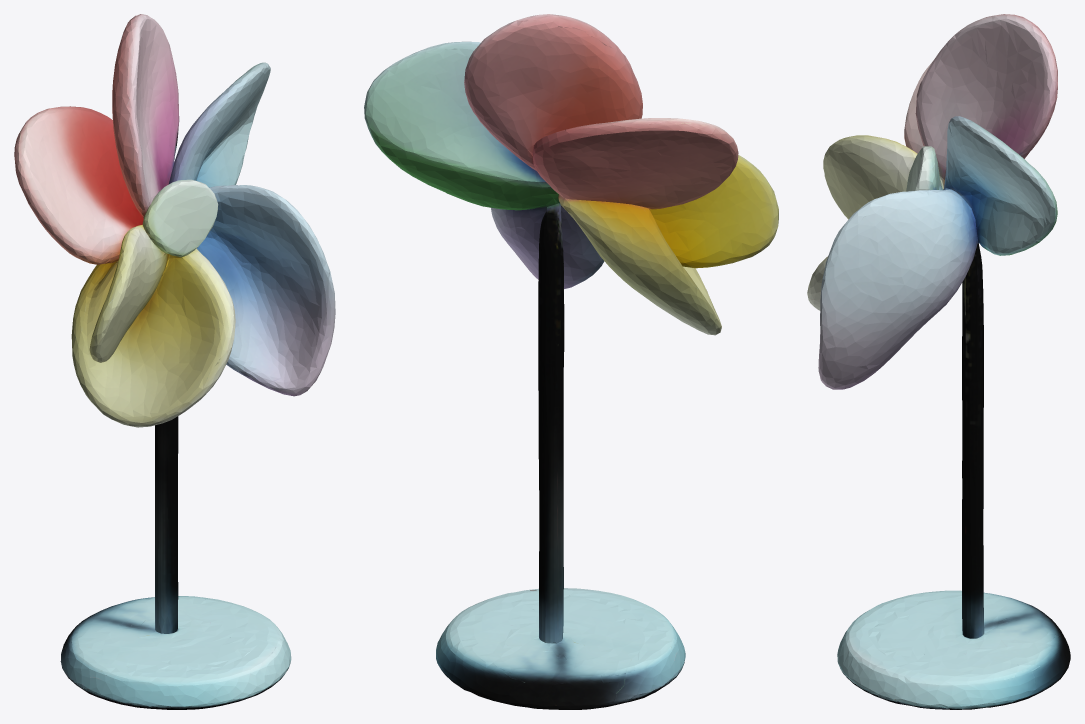
File: prop_pinwheel.glb
3 views of the same model, side by side, from view 1: azimuth 30°, elevation 25°; view 2: azimuth 150°, elevation 25°; view 3: azimuth 270°, elevation 25° (orthographic). The views are drawn at different scales.
Parts seen in each view (by area): view 1: world; view 2: world; view 3: world.
Boxes of the visible parts, x1=… form: world: x1=14, y1=14, x2=335, y2=709; world: x1=364, y1=14, x2=778, y2=709; world: x1=807, y1=14, x2=1070, y2=709.
Size of the model in its own units: 0.4922 by 1 by 0.3738.
Materials: 1 (1 with a texture image).
